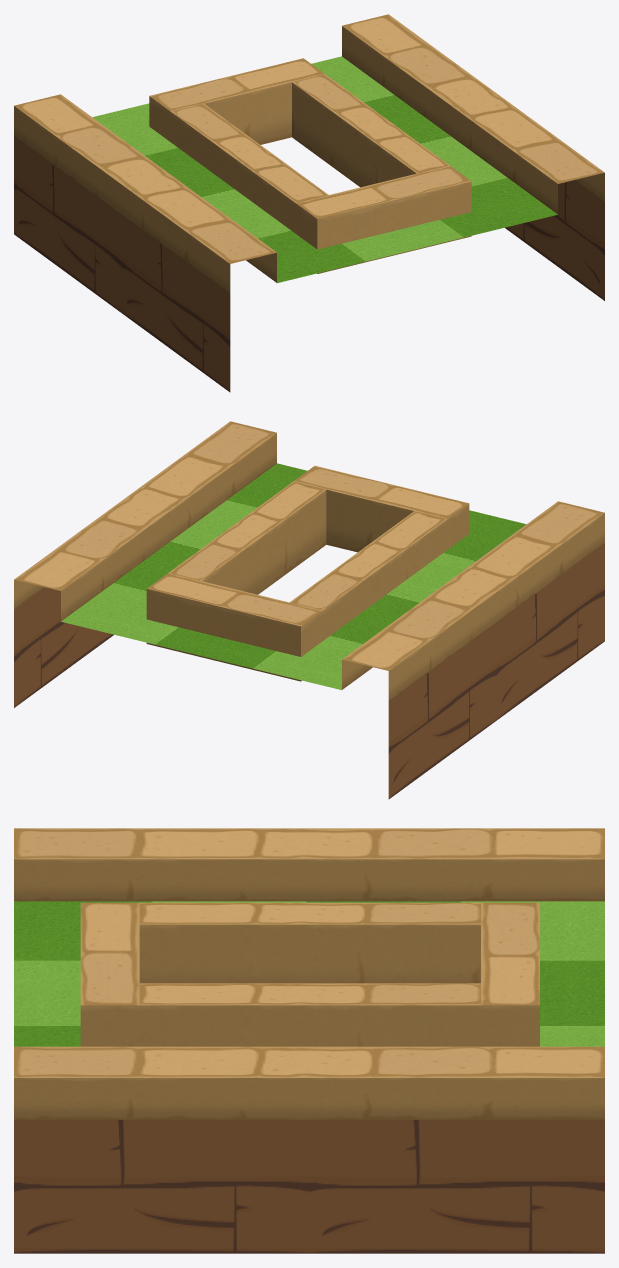
Rendered from tile11.FBX.
3 views of the same model, one above another, from view 1: azimuth 30°, elevation 25°; view 2: azimuth 150°, elevation 25°; view 3: azimuth 270°, elevation 25° (orthographic). The views are drawn at different scales.
Visible parts, largest first — view 1: tile11_walls, tile11_obstacle, tile11_floor; view 2: tile11_walls, tile11_obstacle, tile11_floor; view 3: tile11_walls, tile11_obstacle, tile11_floor.
Boxes of the visible parts, x1,y1,x2,y2 form: tile11_walls: (14, 14, 604, 392); tile11_obstacle: (149, 58, 471, 273); tile11_floor: (92, 56, 557, 283); tile11_walls: (14, 421, 604, 799); tile11_obstacle: (146, 465, 469, 681); tile11_floor: (61, 463, 526, 690); tile11_walls: (14, 828, 604, 1253); tile11_obstacle: (80, 902, 539, 1046); tile11_floor: (14, 901, 604, 1046).
Size of the model in its own units: 1280 by 420 by 1280.
